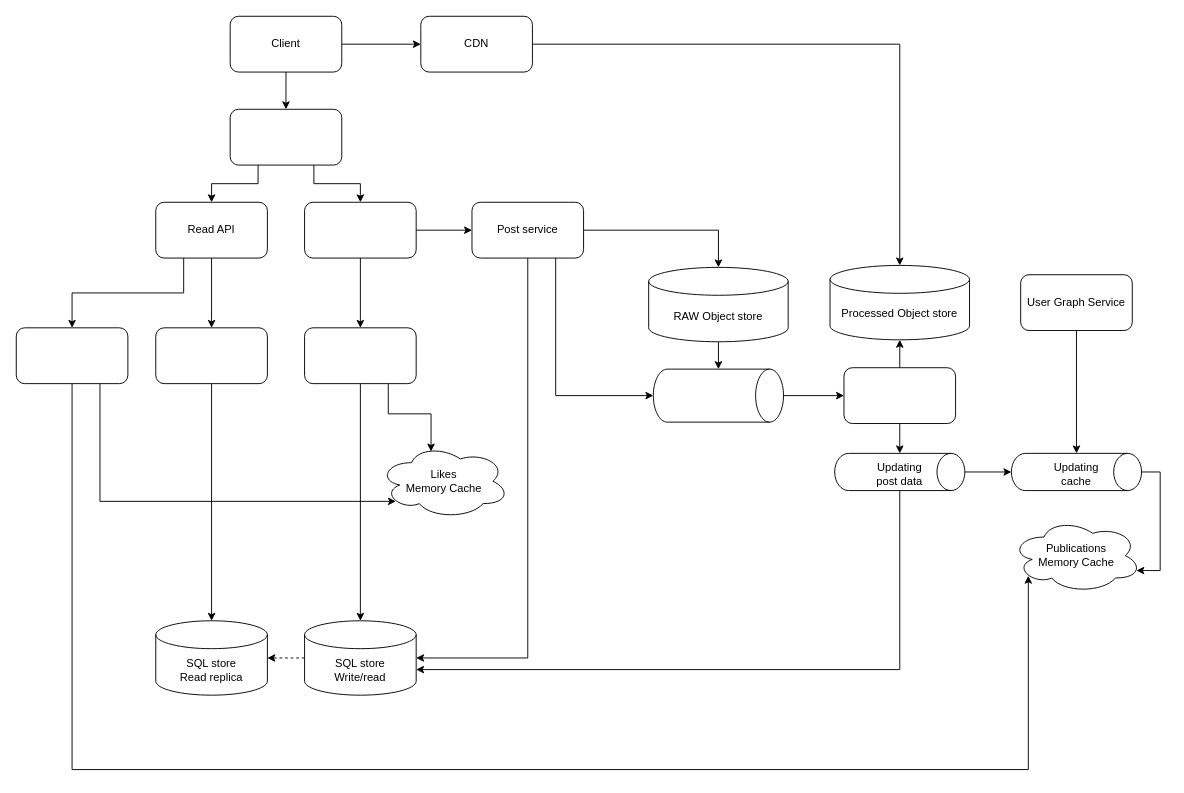
This 1184x793 diagram has some shape labels left out. Each missing label, with the centre of its shape:
"Data processing service" goes at pixel 899 395.
"Feed service" goes at pixel 71 355.
"Like service" goes at pixel 360 355.
"RAW data Processing queue" goes at pixel 718 395.
"User service" goes at pixel 211 355.
"Web server" goes at pixel 285 136.
"Write API" goes at pixel 360 229.
